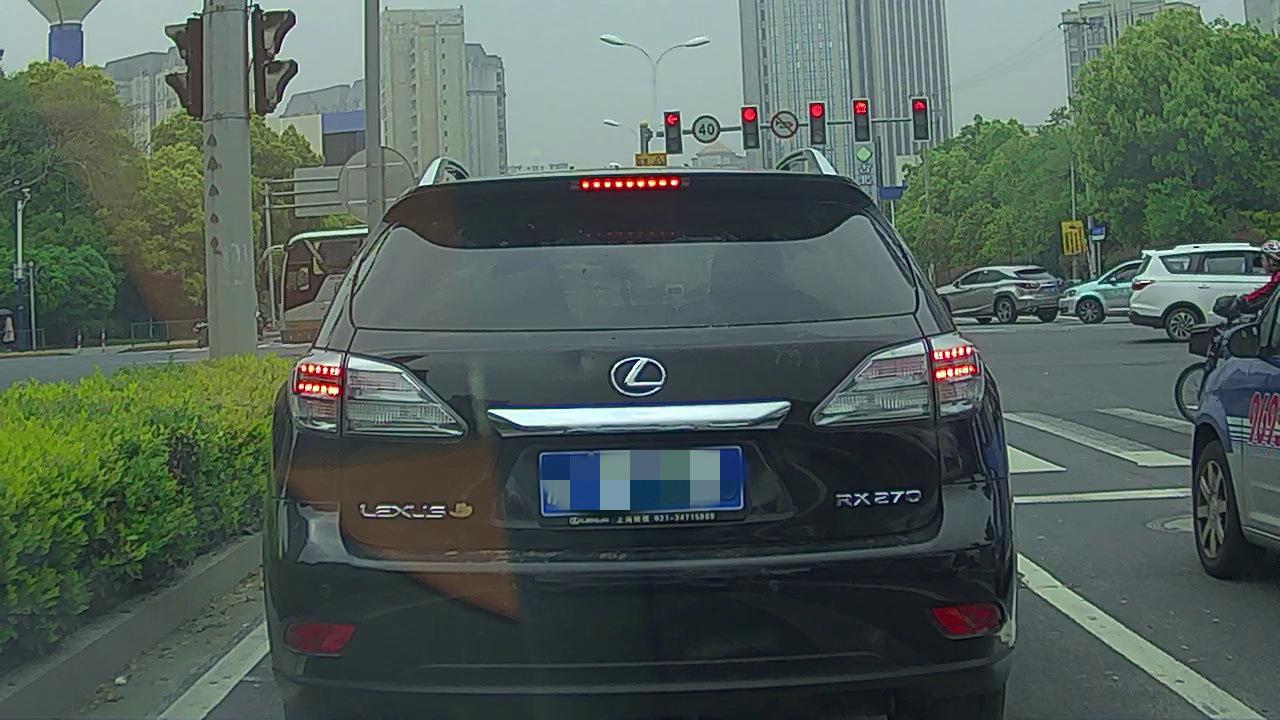traffic_light: (809, 98, 828, 145), (663, 112, 683, 155), (741, 106, 760, 147), (853, 98, 870, 143), (912, 98, 929, 142)
